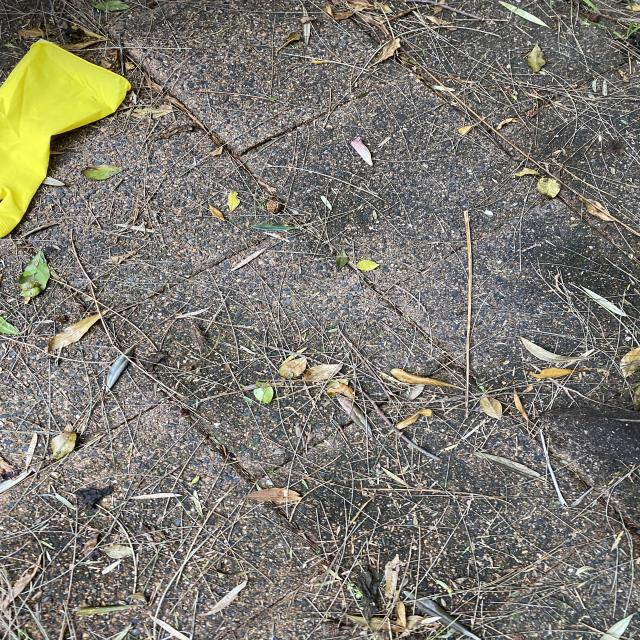glove: (0, 37, 131, 238)
